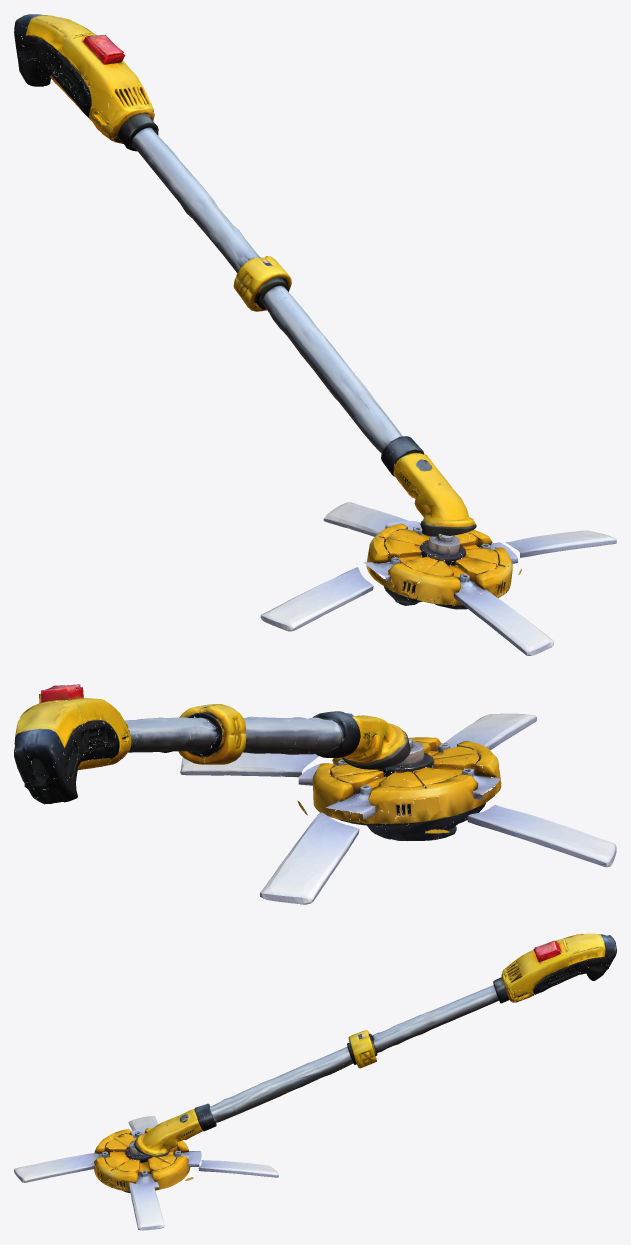
File: StringTrimmer.glb
The picture shows the model from 3 angles, top to bottom: view 1: azimuth 30°, elevation 25°; view 2: azimuth 150°, elevation 25°; view 3: azimuth 270°, elevation 25°; orthographic projection. The views are drawn at different scales.
Visible parts, largest first — view 1: Body, CutterHead, Blades; view 2: Body, CutterHead, Blades; view 3: Body, CutterHead, Blades.
Part boxes in pixels (bbox=[...]): Body: bbox=[14, 14, 476, 536]; CutterHead: bbox=[363, 521, 517, 609]; Blades: bbox=[260, 502, 616, 655]; Body: bbox=[14, 684, 410, 804]; CutterHead: bbox=[298, 737, 501, 840]; Blades: bbox=[180, 713, 616, 904]; Body: bbox=[134, 933, 616, 1156]; CutterHead: bbox=[91, 1128, 201, 1192]; Blades: bbox=[14, 1116, 278, 1230].
Size of the model in its own units: 0.5942 by 0.5739 by 1.35.
2 materials, 2 textured.
